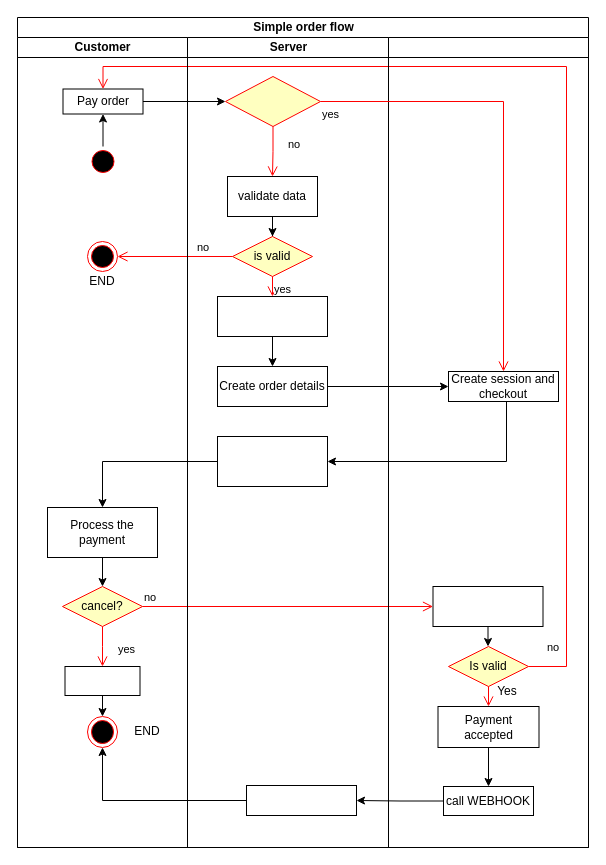
Some shapes in this 606 by 865 pixel diagram are drawn without their labels. Here are the shapes that lost their labels. From the top down, the box of each, then its label:
(224, 76, 320, 126): Exists order?
(216, 296, 328, 336): create order (PENDING)
(216, 436, 328, 486): Send payment access ( IN PROGRESS )
(388, 36, 588, 848): Payment Gateway
(432, 586, 543, 626): Validate payment data (balance, info)
(64, 666, 140, 696): (CANCEL)
(246, 784, 356, 816): Send confirmation EMAIL (PAID)
